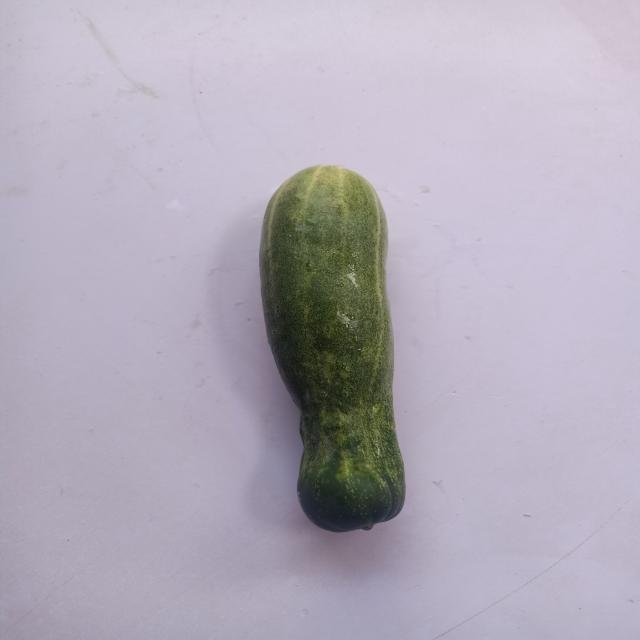Cucumber: (227, 137, 443, 560)
